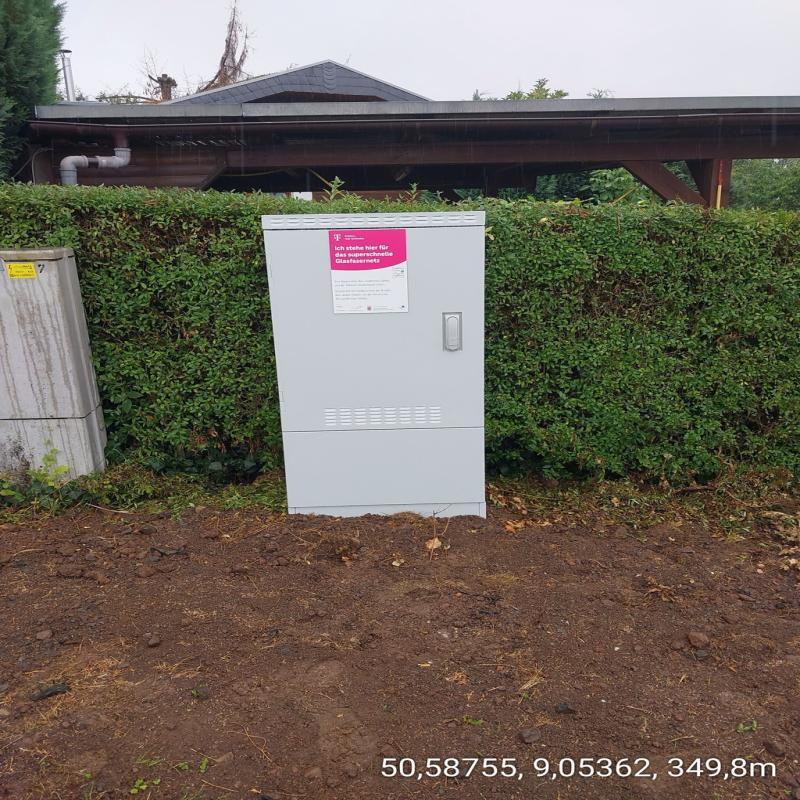NT-Gehause: (261, 217, 497, 519)
Steaker: (326, 227, 412, 318)
